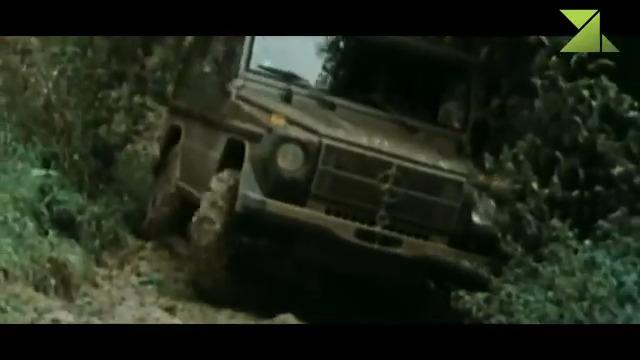MIL_HMMWV: (142, 27, 522, 300)
